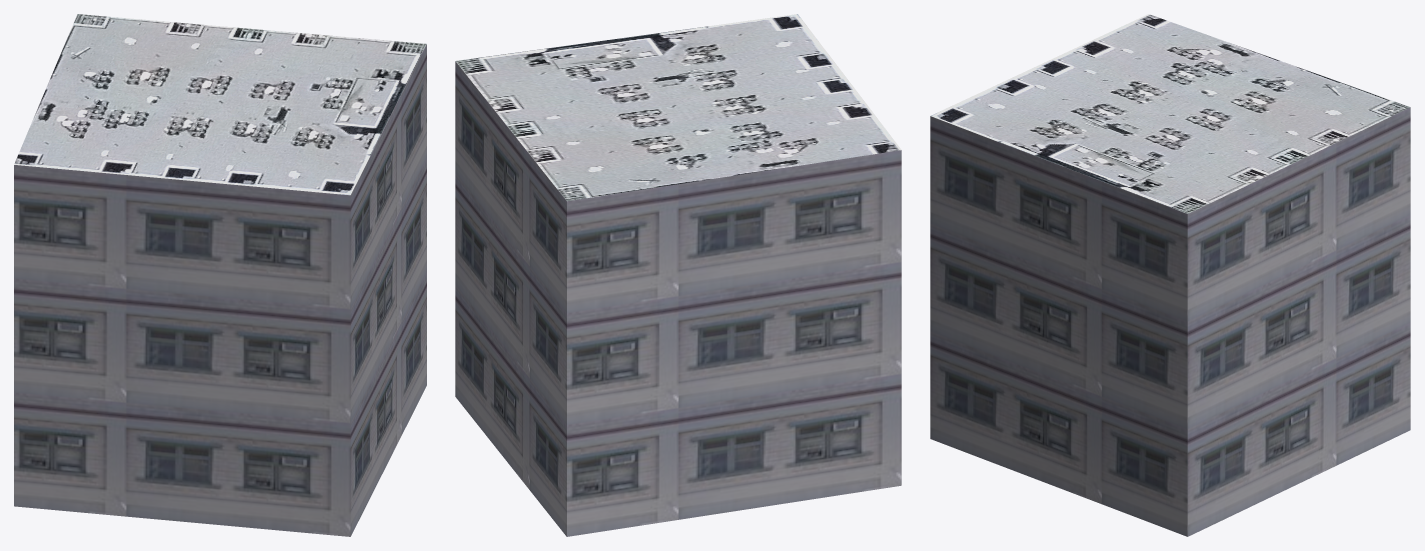
Rendered from ResTex__1872.fbx.
3 renders of one model, left to right at view 1: azimuth 30°, elevation 25°; view 2: azimuth 150°, elevation 25°; view 3: azimuth 270°, elevation 25°, orthographic. The views are drawn at different scales.
Parts seen in each view (by area): view 1: CityEngineMaterial_1_m, CityEngineMaterial_4_m; view 2: CityEngineMaterial_1_m, CityEngineMaterial_4_m; view 3: CityEngineMaterial_1_m, CityEngineMaterial_4_m.
Boxes of the visible parts, x1,y1,x2,y2 form: CityEngineMaterial_1_m: (14,44,426,536); CityEngineMaterial_4_m: (14,14,426,195); CityEngineMaterial_1_m: (455,61,901,536); CityEngineMaterial_4_m: (455,14,901,201); CityEngineMaterial_1_m: (930,107,1410,536); CityEngineMaterial_4_m: (931,14,1410,213).
Bounding box in the file's own units: 11.96 × 9 × 12.14.
Materials: 2 (2 with a texture image).
